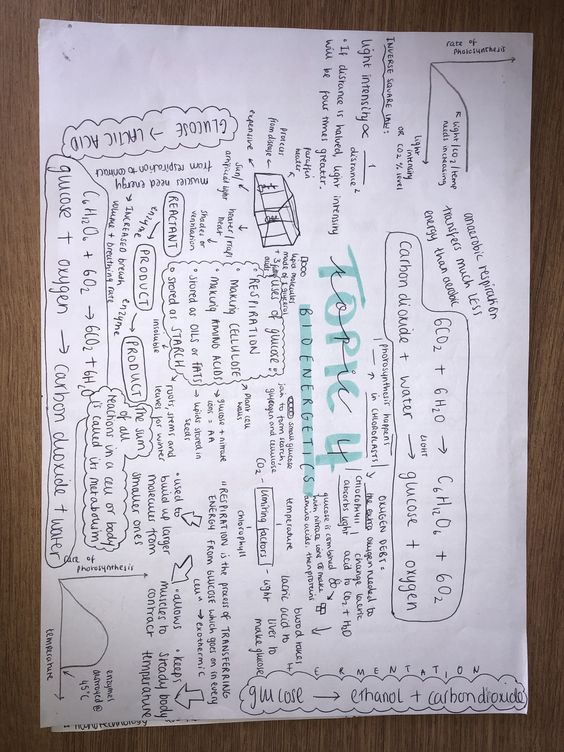page: (39, 30, 527, 716)
